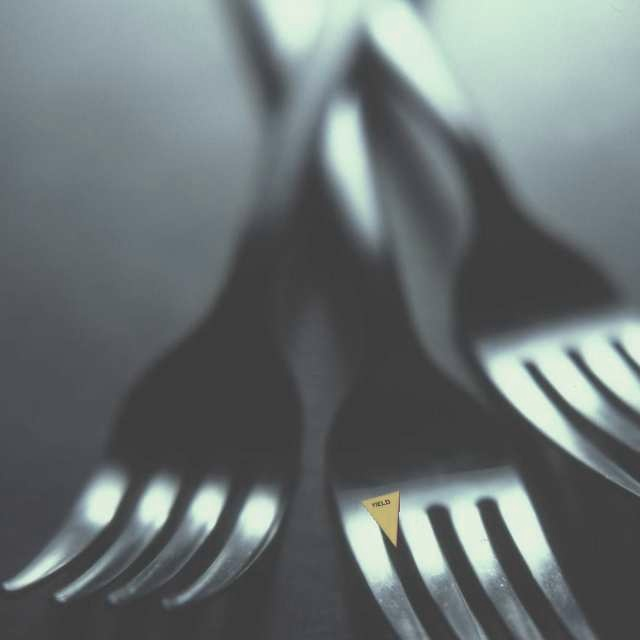YIELD: (360, 490, 400, 550)
